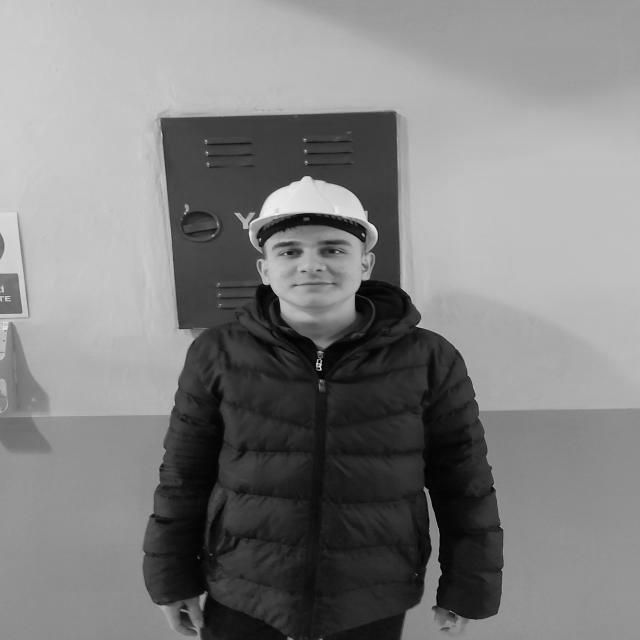construction helmet: (247, 178, 379, 258)
